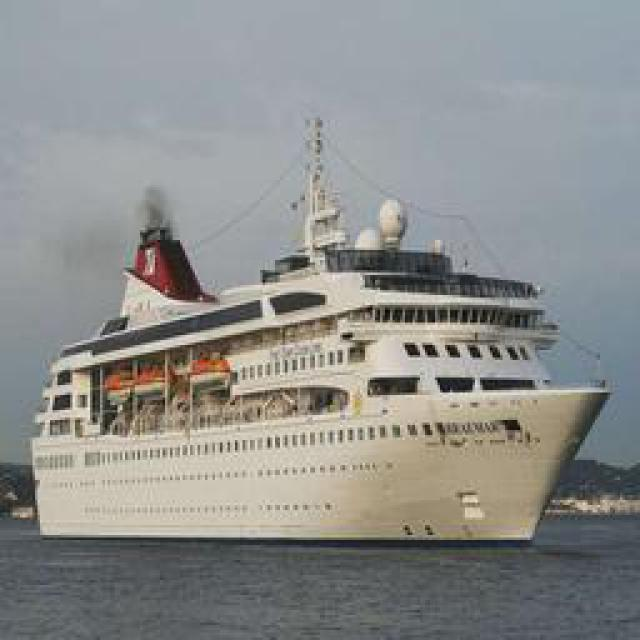Ship: (29, 161, 602, 556)
